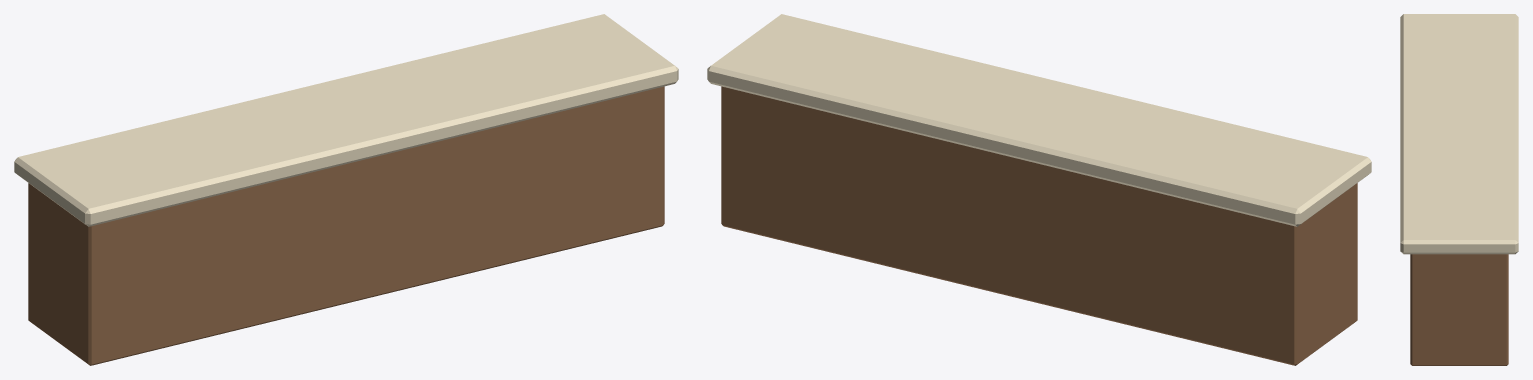
File: bar_counter.glb
3 views of the same model, side by side, from view 1: azimuth 30°, elevation 25°; view 2: azimuth 150°, elevation 25°; view 3: azimuth 270°, elevation 25° (orthographic). The views are drawn at different scales.
Parts seen in each view (by area): view 1: CounterBody, CounterTop; view 2: CounterBody, CounterTop; view 3: CounterTop, CounterBody.
Boxes of the visible parts, x1,y1,x2,y2 form: CounterBody: (28, 86, 664, 365); CounterTop: (14, 14, 678, 226); CounterBody: (721, 86, 1357, 365); CounterTop: (707, 14, 1371, 226); CounterTop: (1400, 14, 1518, 254); CounterBody: (1410, 254, 1508, 365).
Bounding box in the file's own units: 4.12 × 1.08 × 0.9.
